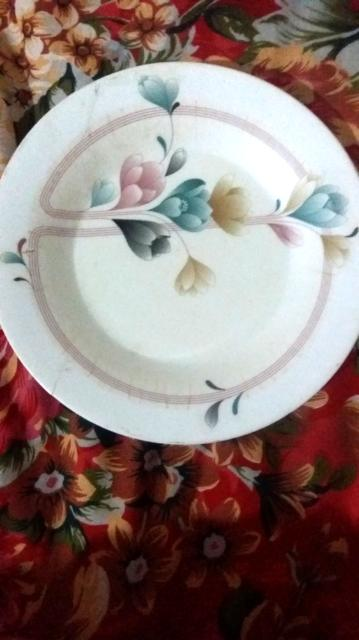Plate: (0, 62, 359, 444)
